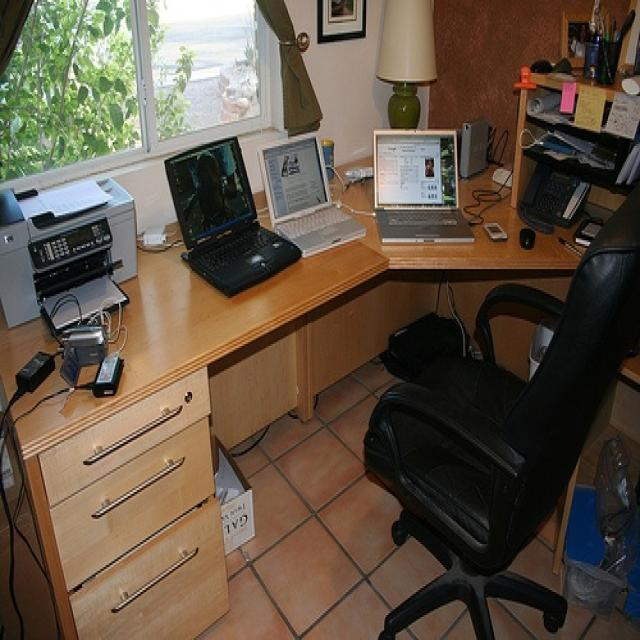chair: (362, 190, 639, 638)
